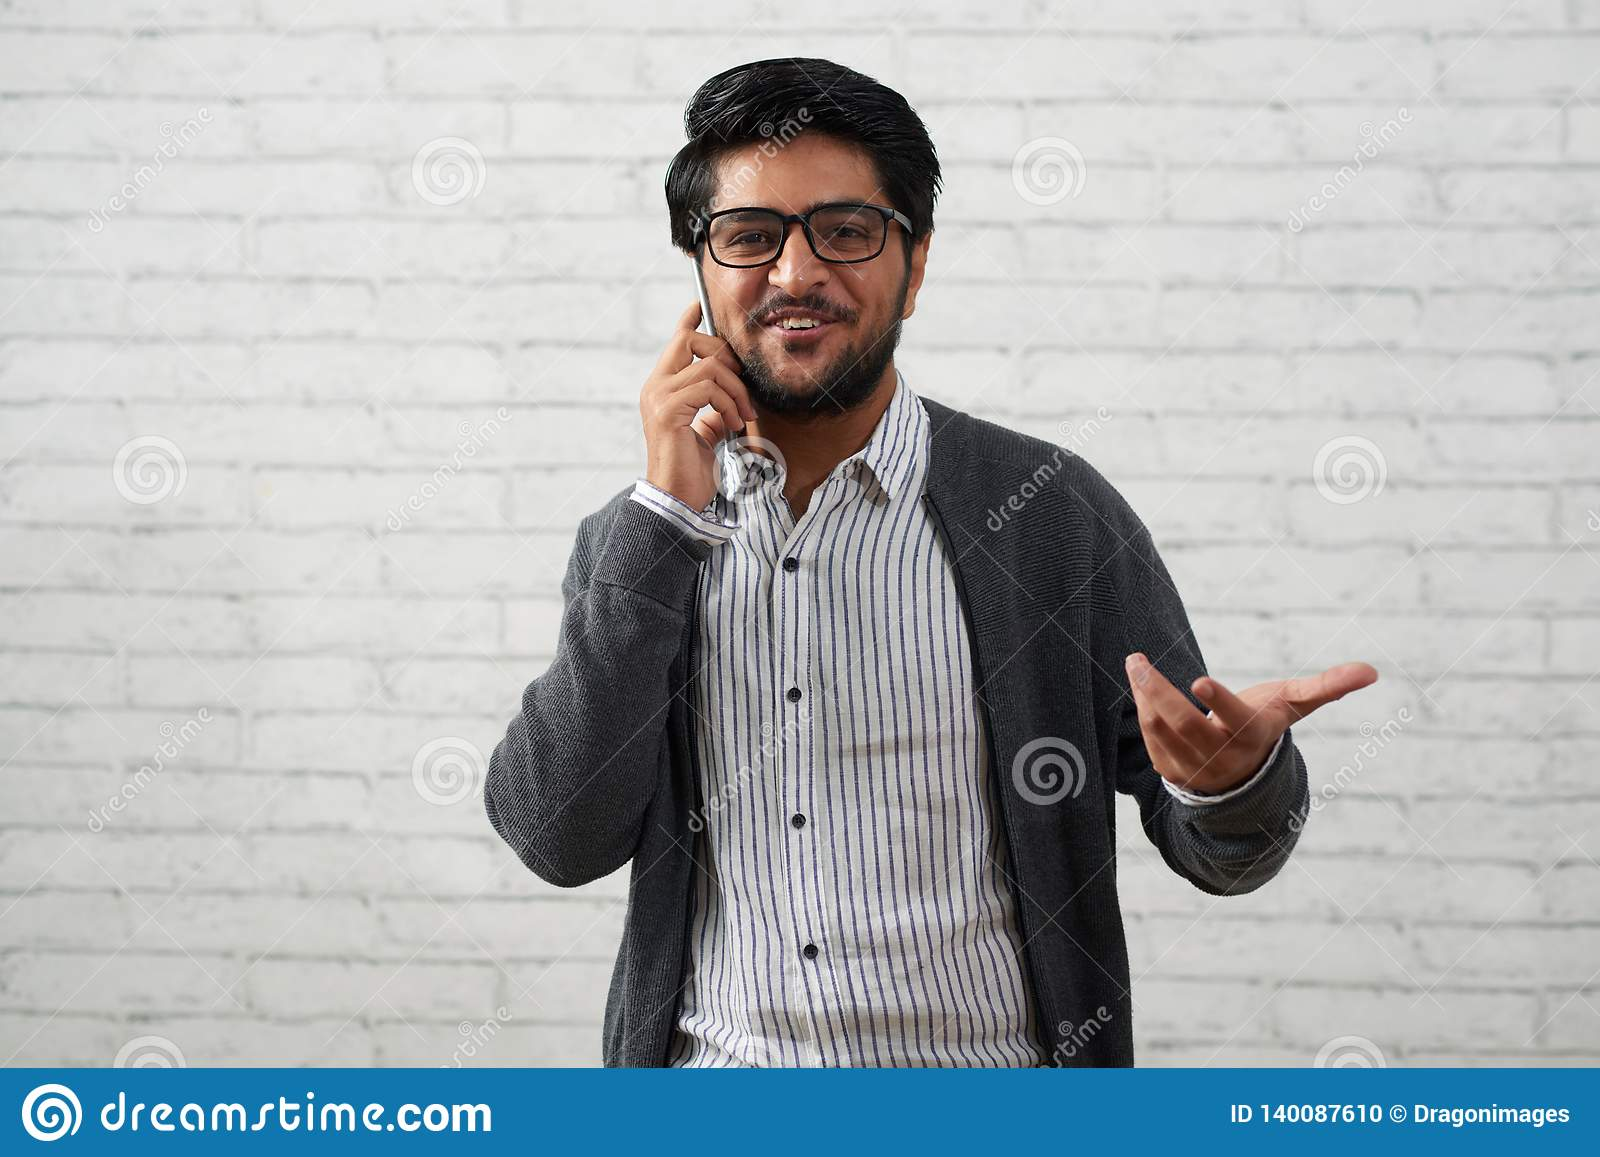phone: (687, 240, 725, 388)
talk: (635, 198, 894, 505)
